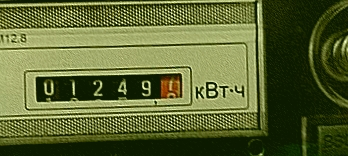0: (43, 78, 56, 98)
1: (68, 79, 78, 98)
2: (92, 79, 105, 99)
4: (117, 78, 128, 98)
7: (165, 74, 177, 94)
9: (140, 79, 153, 100)
screen: (17, 65, 192, 113)
